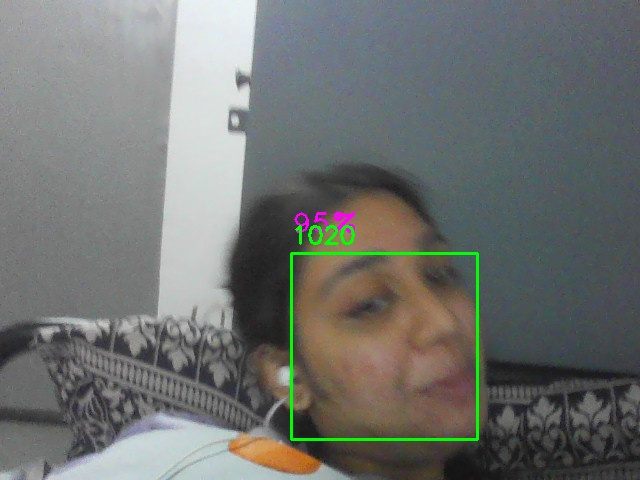real: (291, 253, 478, 440)
